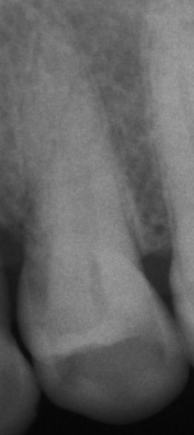tooth: (17, 29, 190, 429)
